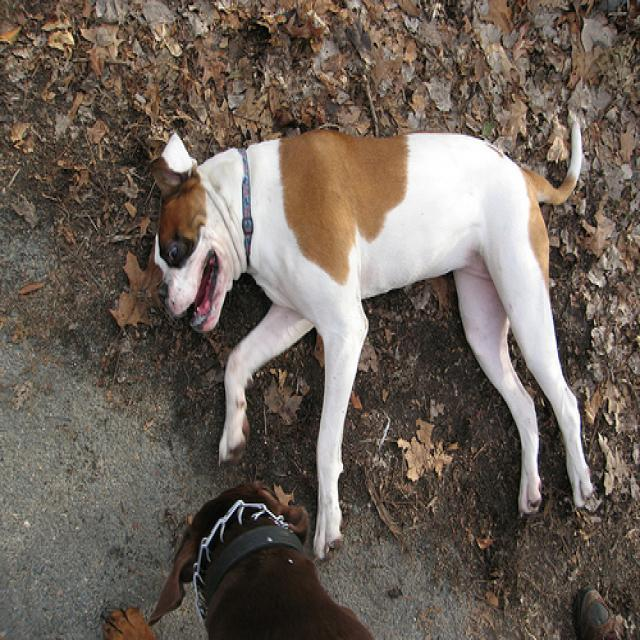dog-american_bulldog: (150, 118, 595, 572)
